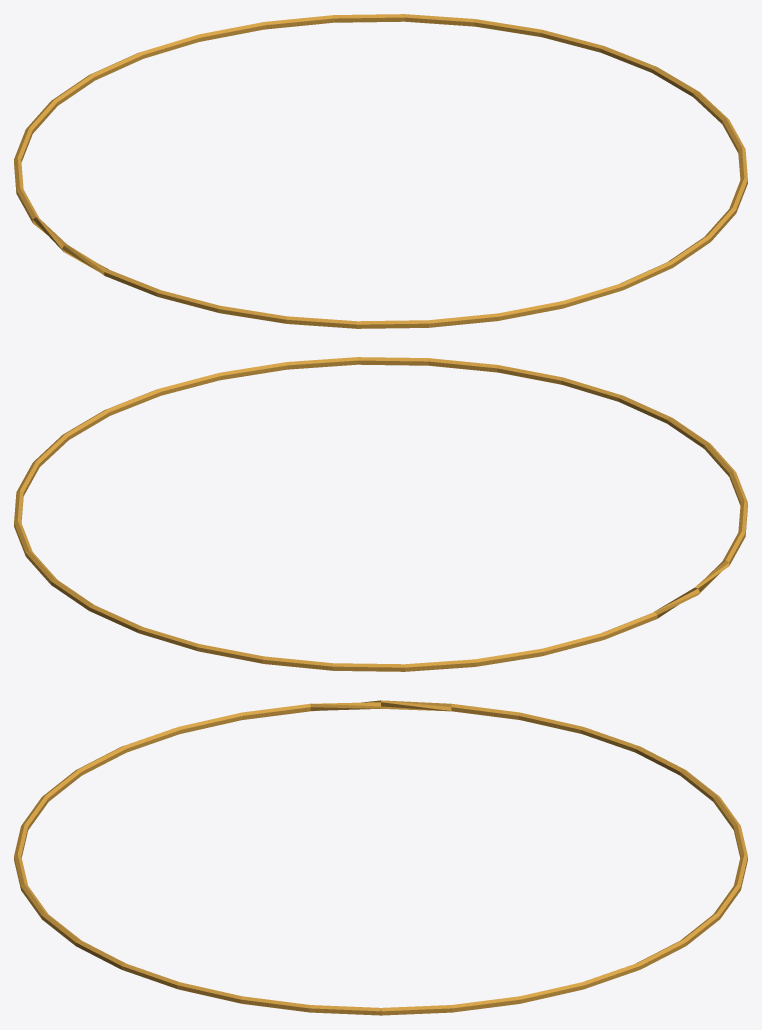
File: effect-orbit.glb
3 views of the same model, one above another, from view 1: azimuth 30°, elevation 25°; view 2: azimuth 150°, elevation 25°; view 3: azimuth 270°, elevation 25° (orthographic).
Parts seen in each view (by area): view 1: Orbit; view 2: Orbit; view 3: Orbit.
Part boxes in pixels (x1,y1,x2,y2): Orbit: (14,14,747,328); Orbit: (14,357,747,671); Orbit: (14,700,747,1015).
Bounding box in the file's own units: 0.8693 × 0.01 × 0.8687.
